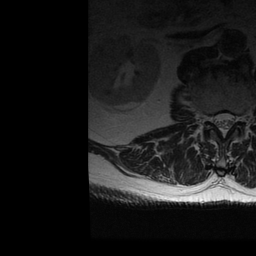CCS_normal: (220, 105, 227, 143)
LFS_stenosis: (236, 108, 243, 128)
LLS_normal: (228, 107, 235, 132)
RFS_stenosis: (205, 109, 213, 128)
RLS_normal: (213, 108, 220, 132)
